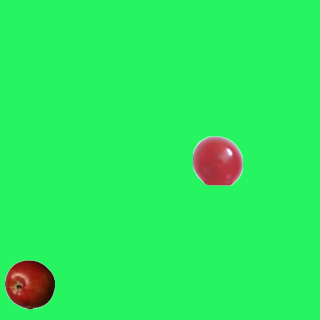Apple Braeburn: (4, 259, 54, 309)
Redcurrant: (192, 135, 242, 185)
